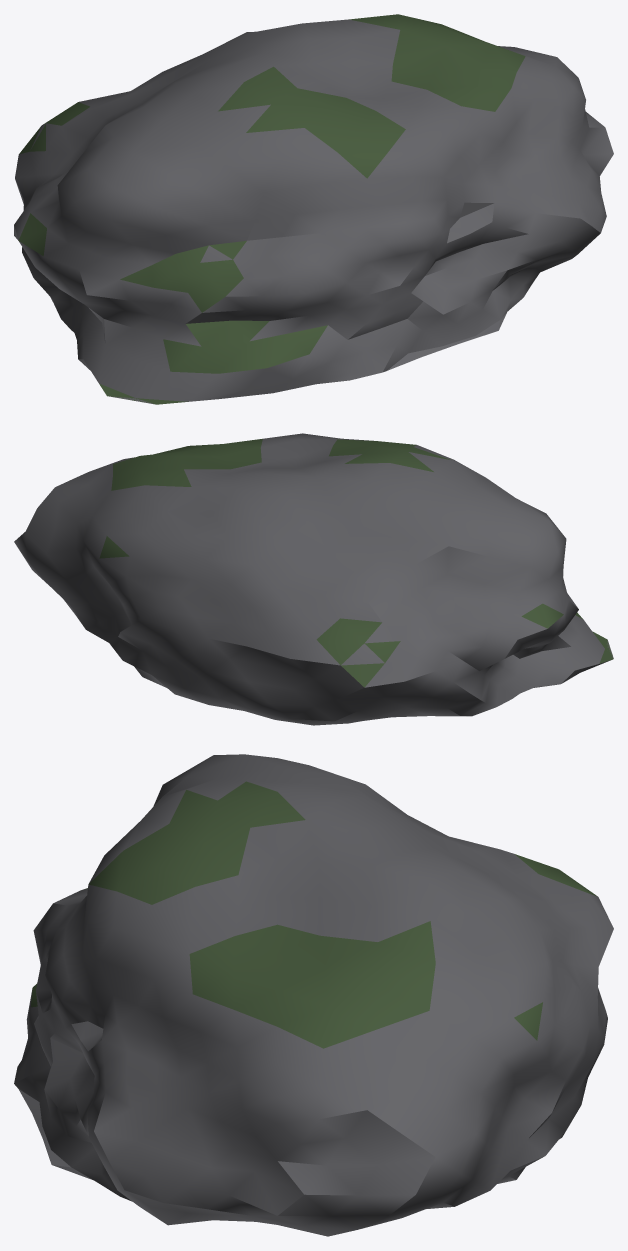
The model's file is rock_boulder_02.glb.
The picture shows the model from 3 angles, top to bottom: view 1: azimuth 30°, elevation 25°; view 2: azimuth 150°, elevation 25°; view 3: azimuth 270°, elevation 25°; orthographic projection. The views are drawn at different scales.
Visible parts, largest first — view 1: rock_b; view 2: rock_b; view 3: rock_b.
Boxes of the visible parts, <box> form: rock_b: <box>14,14,613,404</box>; rock_b: <box>14,433,613,725</box>; rock_b: <box>14,754,613,1236</box>.
Size of the model in its own units: 1.76 by 0.6434 by 1.27.
